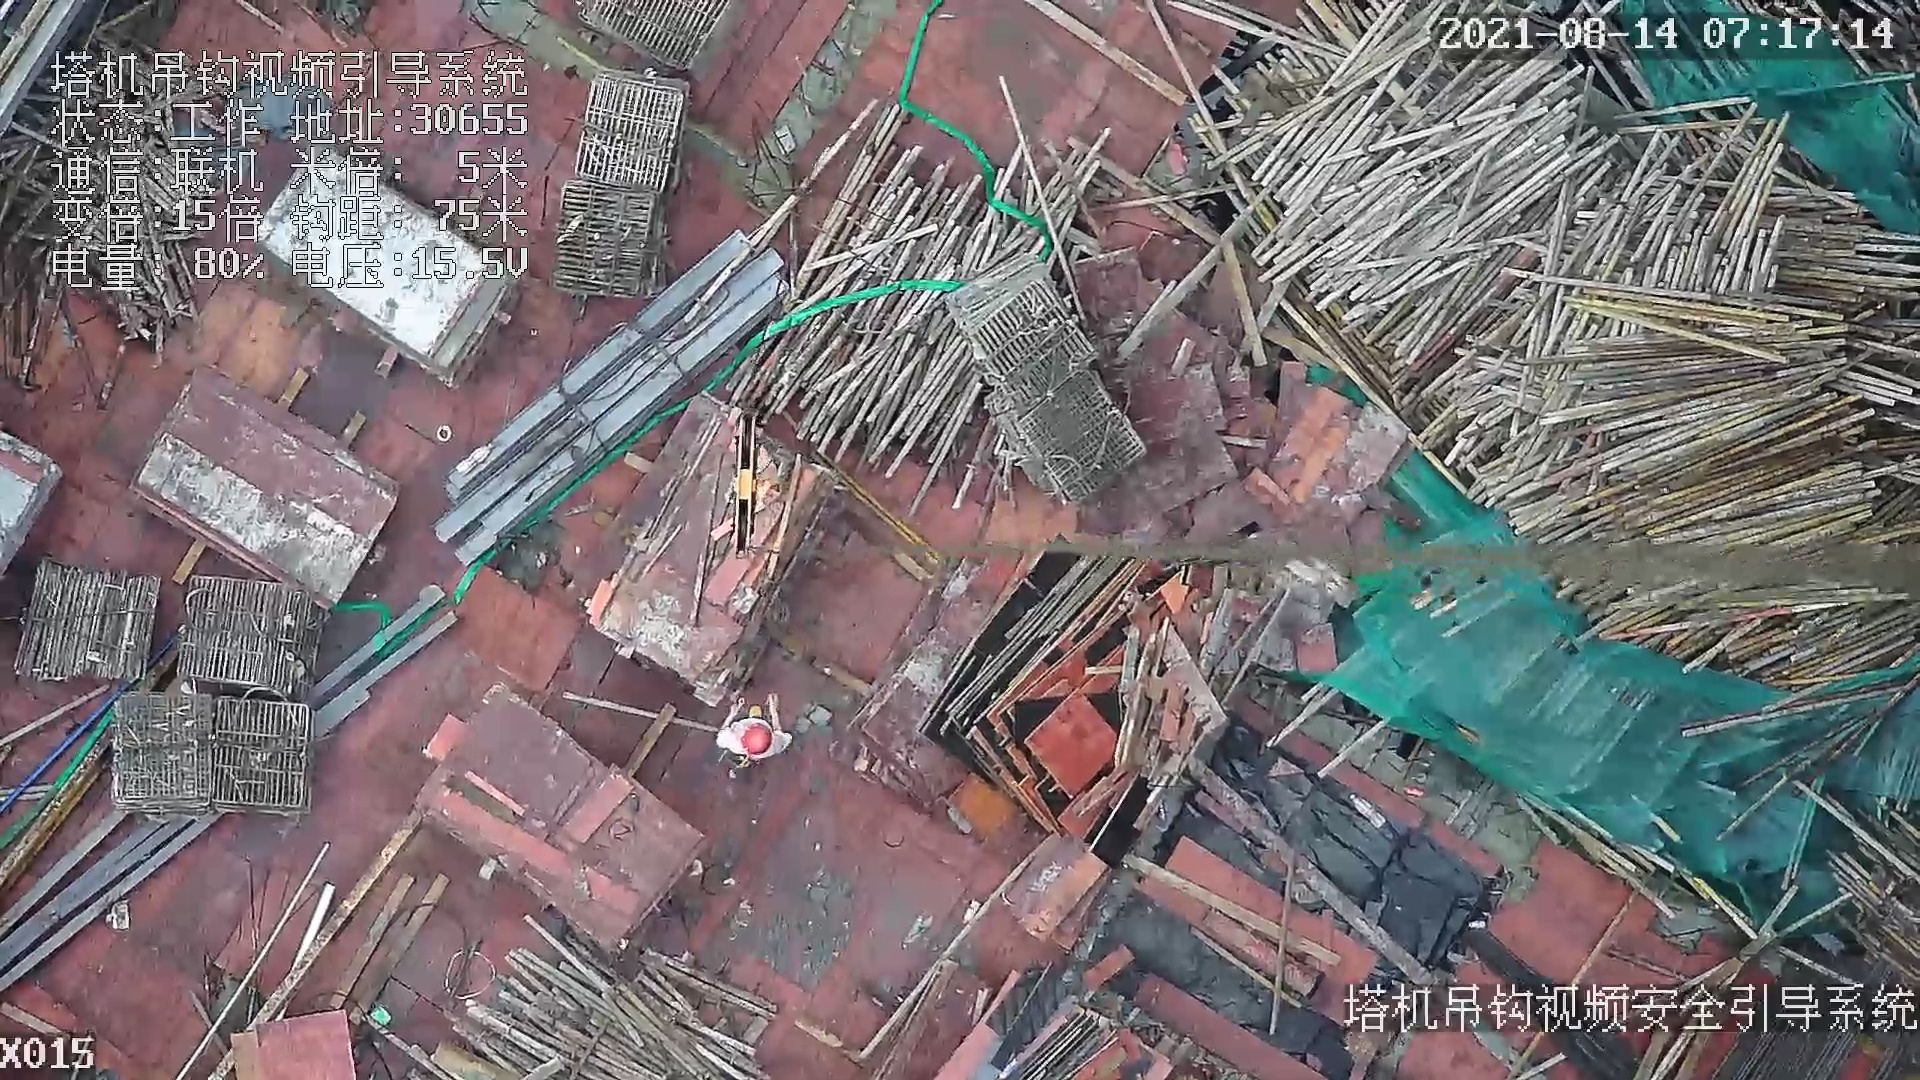helmet: (740, 722, 777, 758)
hook: (720, 413, 756, 559)
person: (719, 695, 794, 771)
